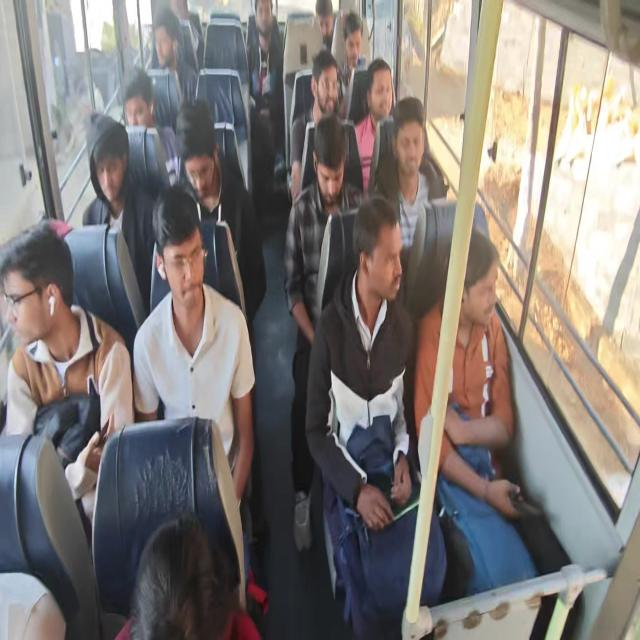person: (2, 2, 574, 636), (304, 194, 448, 637), (413, 226, 540, 596), (1, 223, 134, 546), (132, 182, 256, 510), (283, 113, 364, 552), (174, 98, 266, 324), (115, 512, 261, 639), (82, 112, 158, 314), (373, 96, 434, 253), (120, 67, 189, 190), (245, 1, 285, 213), (289, 49, 341, 202), (352, 58, 395, 194), (146, 7, 198, 107), (246, 0, 284, 107), (336, 10, 368, 119), (315, 0, 334, 52)
